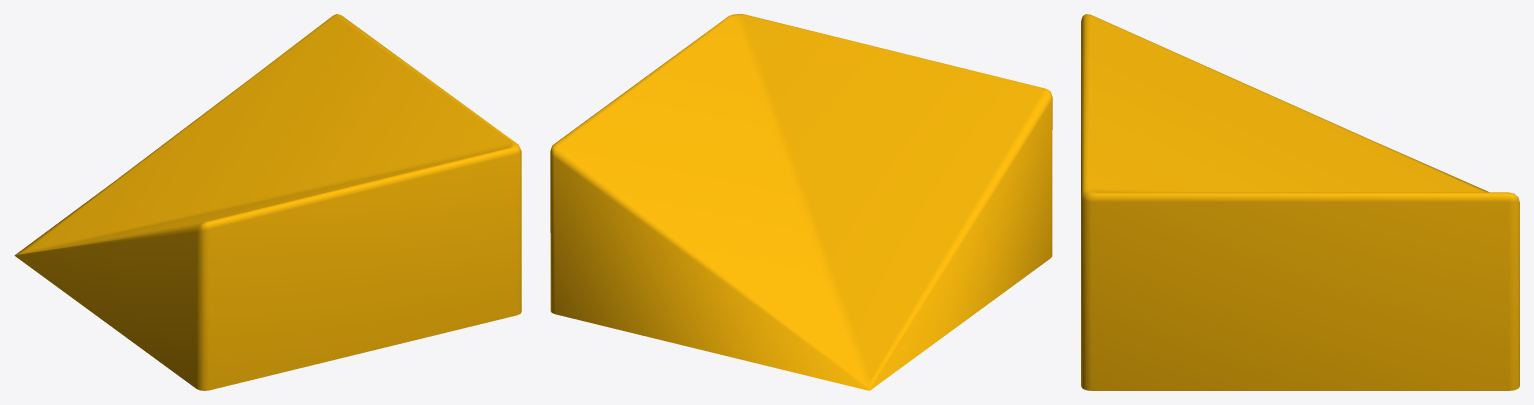
Rendered from Lowered_Corner_Half.fbx.
The picture shows the model from 3 angles, left to right: view 1: azimuth 30°, elevation 25°; view 2: azimuth 150°, elevation 25°; view 3: azimuth 270°, elevation 25°; orthographic projection. The views are drawn at different scales.
Visible parts, largest first — view 1: Lowered_Corner_Half; view 2: Lowered_Corner_Half; view 3: Lowered_Corner_Half.
Boxes of the visible parts, x1,y1,x2,y2 form: Lowered_Corner_Half: (14,14,521,390); Lowered_Corner_Half: (550,14,1052,390); Lowered_Corner_Half: (1081,14,1519,390).
Bounding box in the file's own units: 1 × 0.4921 × 1.
